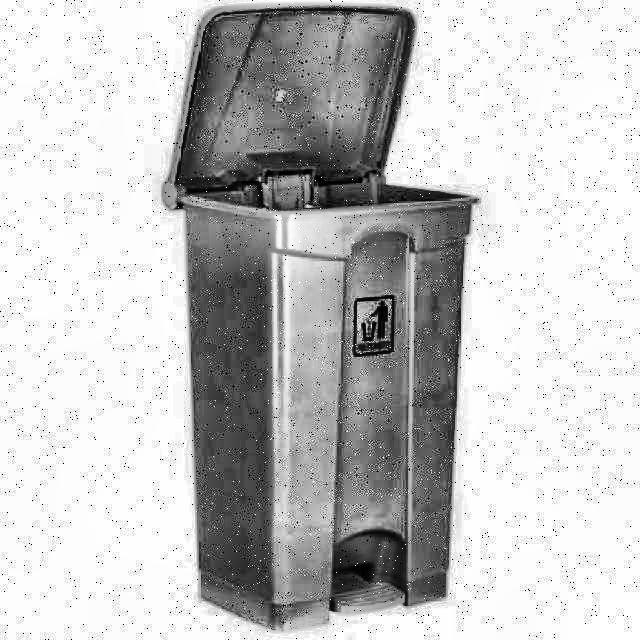Dustbin: (148, 156, 526, 633)
